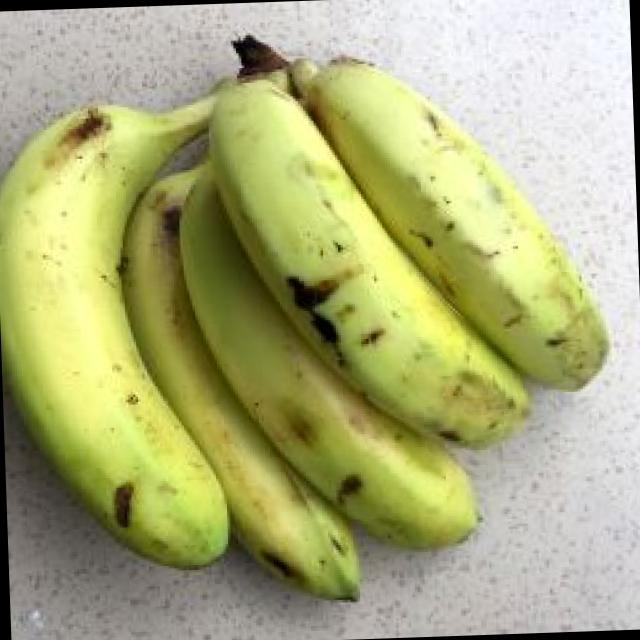banana: (104, 151, 526, 591)
